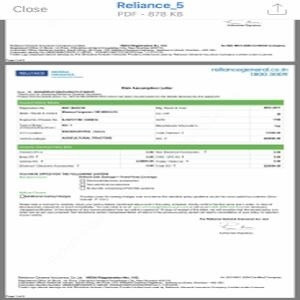image: (14, 69, 49, 77)
table: (16, 100, 284, 143), (16, 145, 285, 172)
text: (16, 201, 281, 218), (211, 66, 290, 78)
